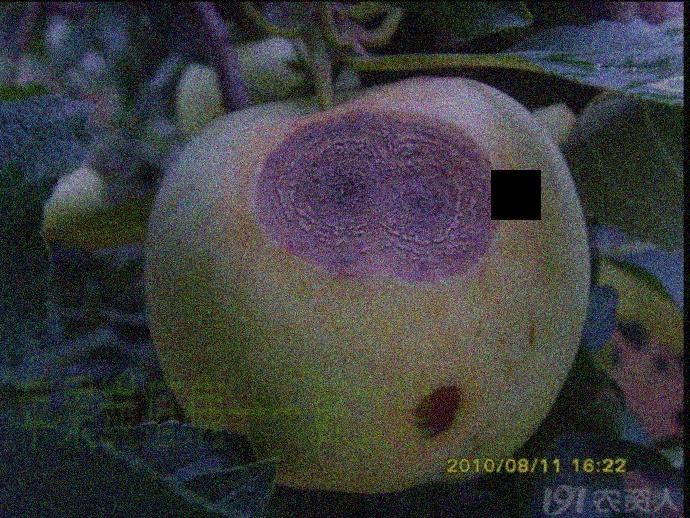rotten apple: (143, 71, 592, 500), (413, 384, 470, 443)
